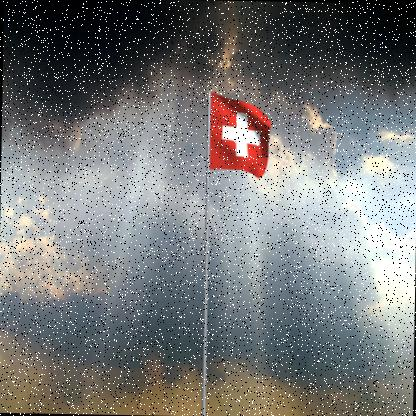ch: (211, 94, 273, 181)
